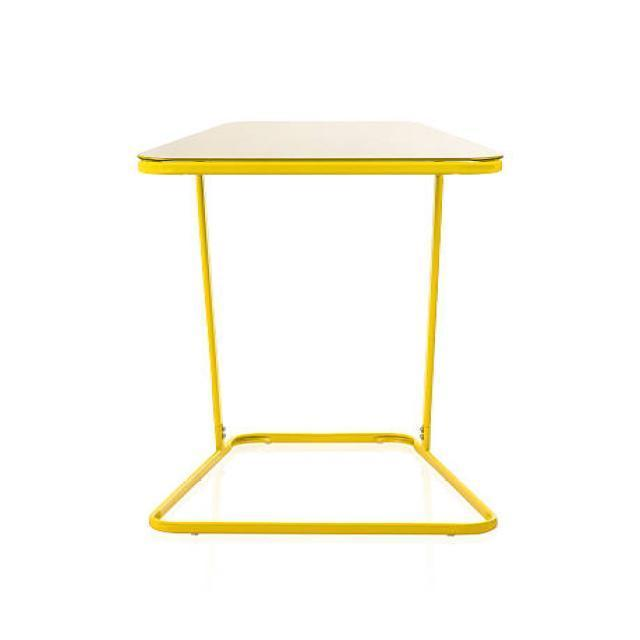table: (135, 119, 505, 537)
